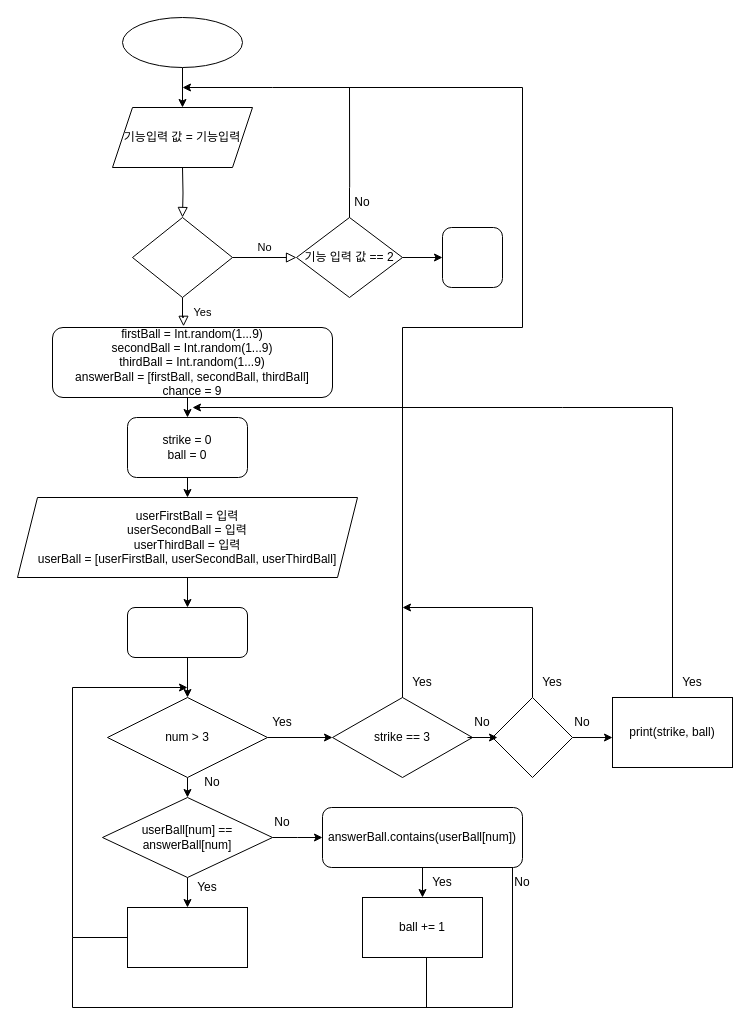
Some shapes in this 750 by 1026 pixel diagram are drawn without their labels. Each missing label, with the centre of its shape:
"chance < 1" belongs at (x=532, y=737).
"num = 0 chance -= 1" belongs at (x=187, y=632).
"strike += 1" belongs at (x=187, y=937).
"게임 종료" belongs at (x=472, y=257).
"기능 입력 값 == 1" belongs at (x=182, y=257).
"시작" belongs at (x=182, y=42).
